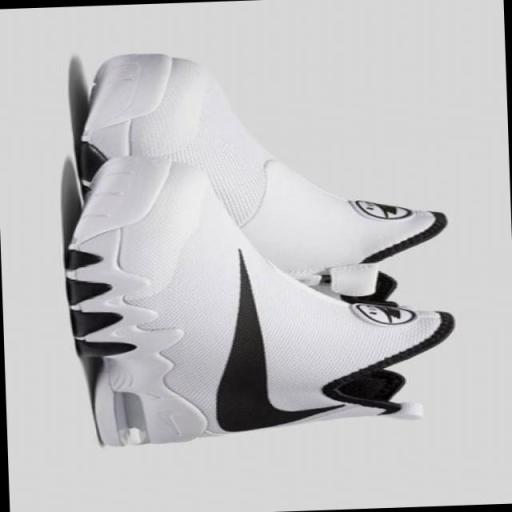Nike: (206, 250, 344, 436)
